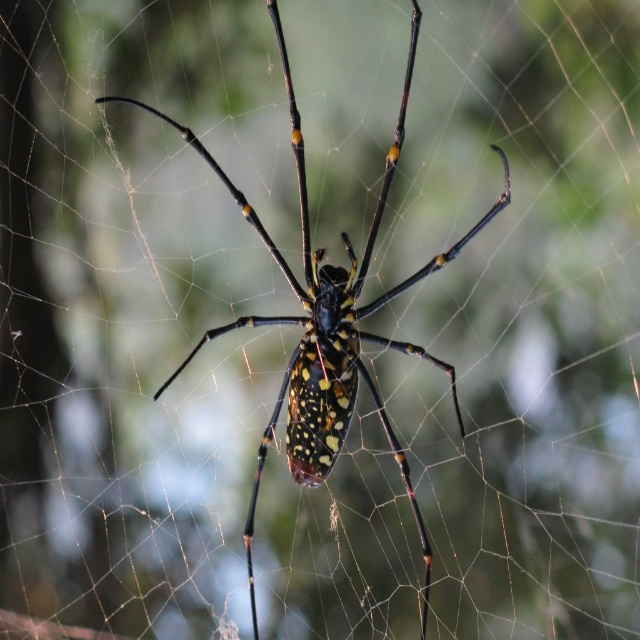Spider: (95, 0, 511, 640)
